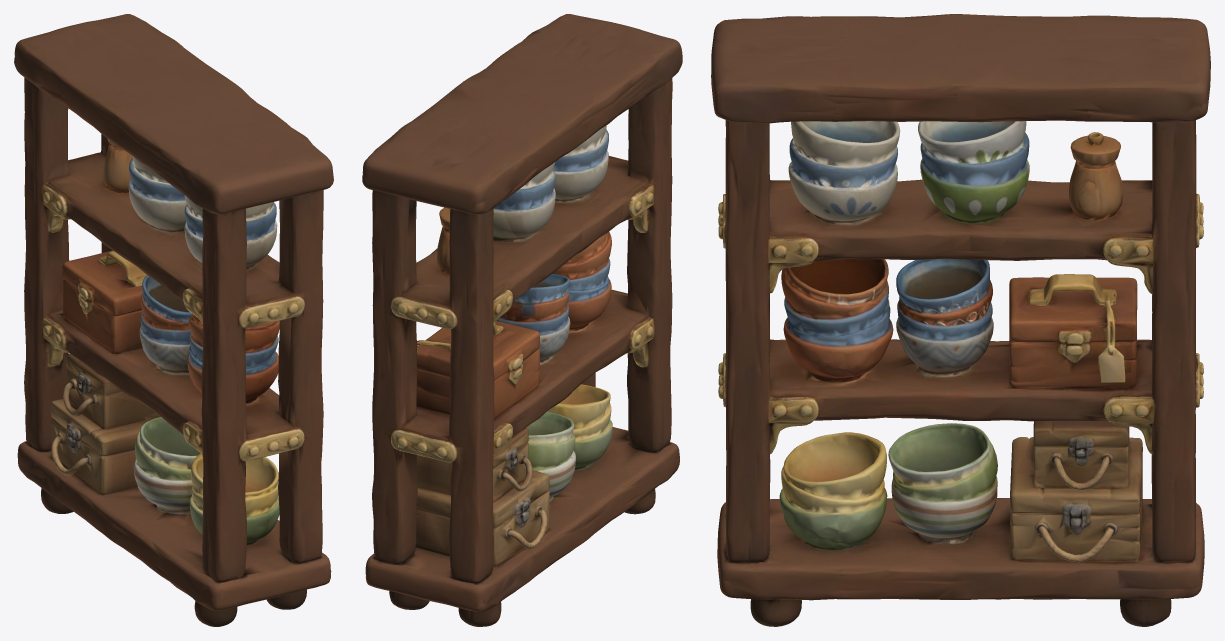
File: KR_사물_s1_storage_rack_old.glb
3 views of the same model, side by side, from view 1: azimuth 30°, elevation 25°; view 2: azimuth 150°, elevation 25°; view 3: azimuth 270°, elevation 25° (orthographic). The views are drawn at different scales.
Parts seen in each view (by area): view 1: tripo_node_29bfc9cb-c040-483b-a480-6ceb4089e3be; view 2: tripo_node_29bfc9cb-c040-483b-a480-6ceb4089e3be; view 3: tripo_node_29bfc9cb-c040-483b-a480-6ceb4089e3be.
Part boxes in pixels (x1,y1,x2,y2): tripo_node_29bfc9cb-c040-483b-a480-6ceb4089e3be: (14,14,333,626); tripo_node_29bfc9cb-c040-483b-a480-6ceb4089e3be: (362,14,682,626); tripo_node_29bfc9cb-c040-483b-a480-6ceb4089e3be: (711,14,1210,626).
Size of the model in its own units: 0.2901 by 0.9999 by 0.8185.
1 material, 1 textured.
